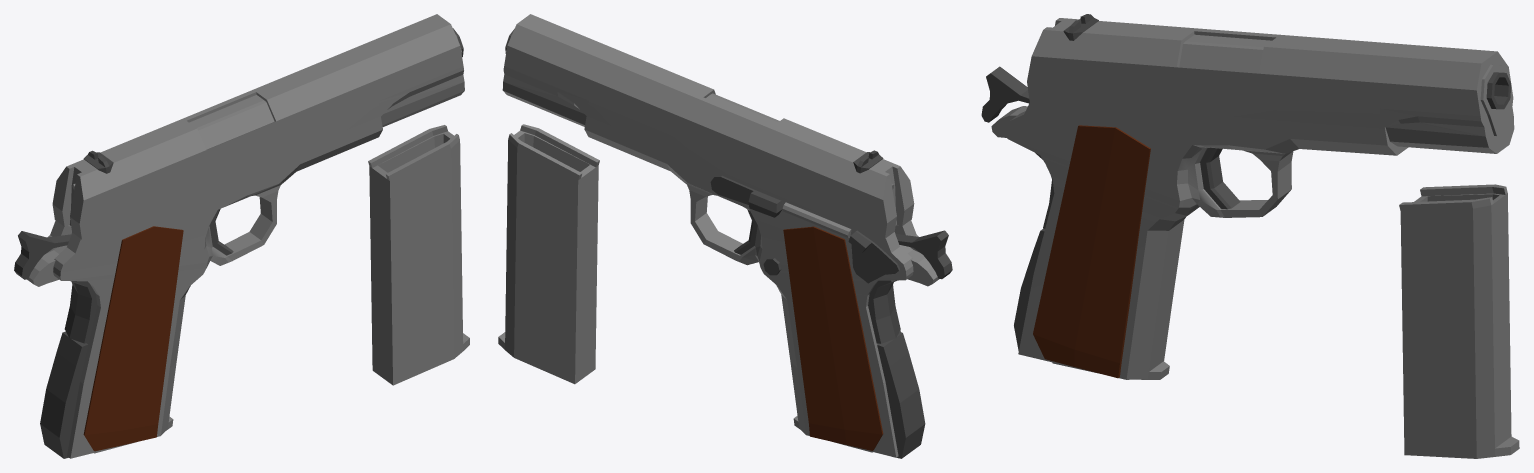
3 views of the same model, side by side, from view 1: azimuth 30°, elevation 25°; view 2: azimuth 150°, elevation 25°; view 3: azimuth 330°, elevation 25° (orthographic). The views are drawn at different scales.
Parts seen in each view (by area): view 1: top slide, Cargador, Colt M1911, Colt M1911.015, Colt M1911.006, Colt M1911.007, Colt M1911.010, Colt M1911.008; view 2: top slide, Cargador, Colt M1911.014, Colt M1911, Colt M1911.006, Colt M1911.007, Colt M1911.016, Colt M1911.017, Colt M1911.010, Colt M1911.008, Colt M1911.011; view 3: top slide, Cargador, Colt M1911, Colt M1911.015, Colt M1911.010, Colt M1911.009, Colt M1911.006, Colt M1911.003, Colt M1911.013.
Boxes of the visible parts, left/top/right/bottom form: top slide: left=52, top=14, right=464, bottom=239; Cargador: left=368, top=125, right=469, bottom=385; Colt M1911: left=46, top=116, right=382, bottom=458; Colt M1911.015: left=83, top=226, right=183, bottom=451; Colt M1911.006: left=40, top=331, right=88, bottom=458; Colt M1911.007: left=64, top=281, right=97, bottom=343; Colt M1911.010: left=14, top=231, right=71, bottom=279; Colt M1911.008: left=27, top=245, right=67, bottom=286; top slide: left=502, top=14, right=914, bottom=238; Cargador: left=498, top=124, right=599, bottom=384; Colt M1911.014: left=783, top=226, right=883, bottom=450; Colt M1911: left=584, top=116, right=919, bottom=457; Colt M1911.006: left=877, top=332, right=925, bottom=458; Colt M1911.007: left=868, top=280, right=900, bottom=343; Colt M1911.016: left=848, top=230, right=900, bottom=283; Colt M1911.017: left=710, top=175, right=782, bottom=217; Colt M1911.010: left=895, top=230, right=952, bottom=279; Colt M1911.008: left=899, top=245, right=939, bottom=286; Colt M1911.011: left=782, top=202, right=851, bottom=237; top slide: left=1027, top=18, right=1514, bottom=153; Cargador: left=1399, top=184, right=1519, bottom=458; Colt M1911: left=1006, top=101, right=1408, bottom=379; Colt M1911.015: left=1033, top=125, right=1150, bottom=378; Colt M1911.010: left=981, top=66, right=1029, bottom=122; Colt M1911.009: left=1200, top=147, right=1240, bottom=209; Colt M1911.006: left=1014, top=228, right=1044, bottom=350; Colt M1911.003: left=1480, top=64, right=1510, bottom=136; Colt M1911.013: left=1486, top=72, right=1511, bottom=109.
Size of the model in its own units: 53.21 by 39.02 by 6.82.
